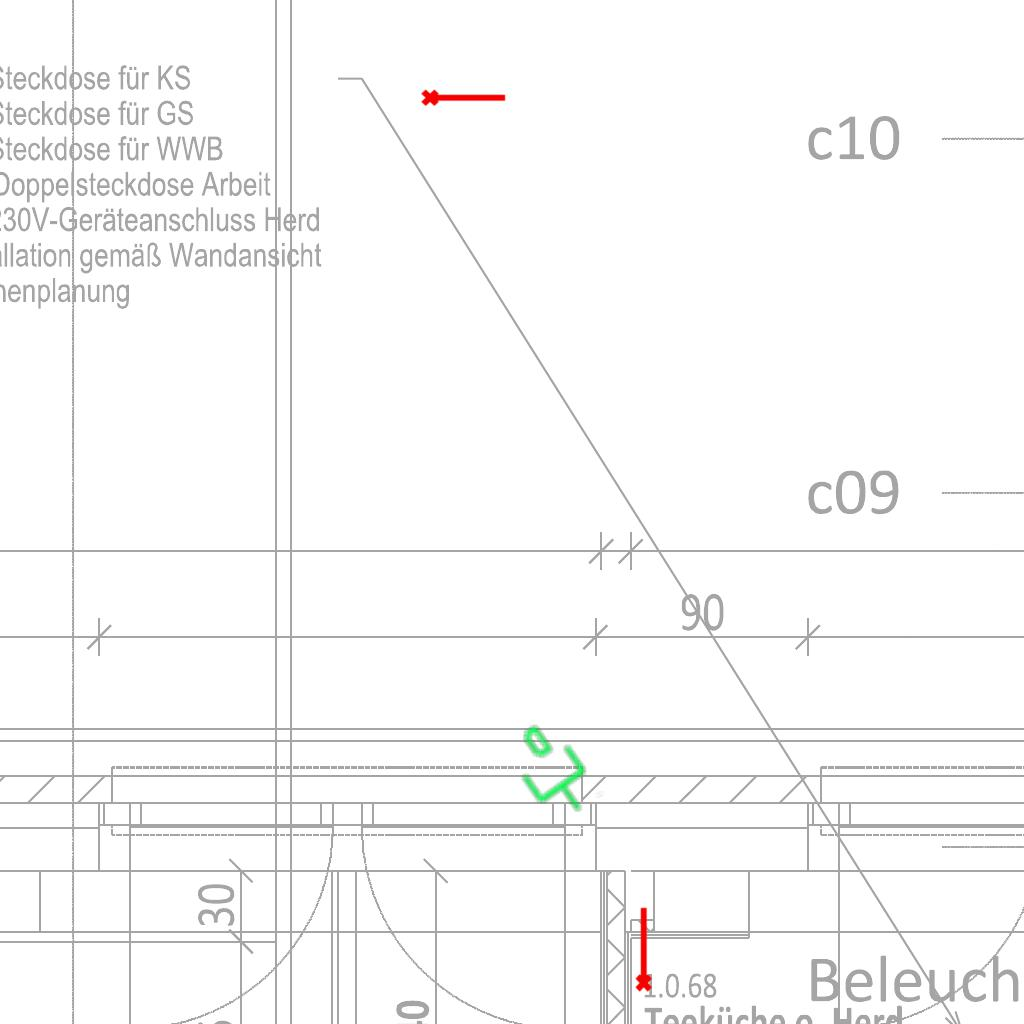ASR_Ansaugoeffnung: (631, 905, 654, 993), (420, 85, 508, 108)
Datenanschluss_einfach: (493, 711, 608, 833)
